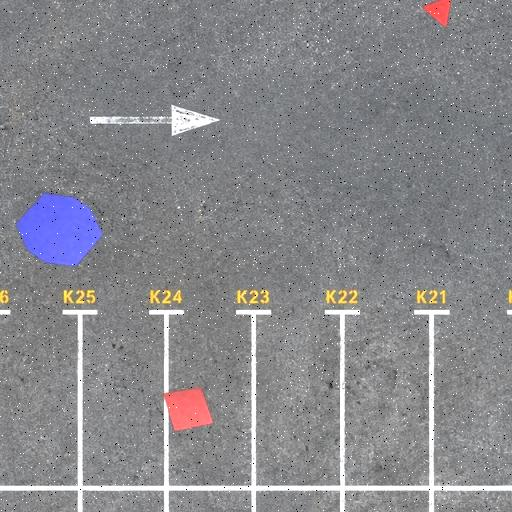RED_SQUARE: (162, 387, 214, 432)
